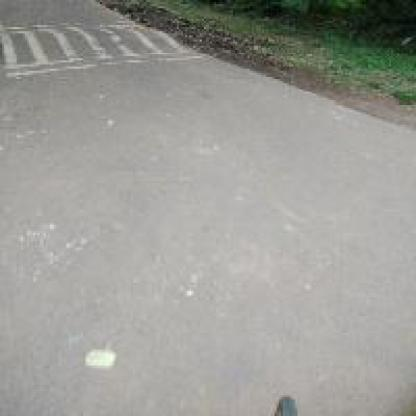Speed Bump: (4, 19, 202, 83)
